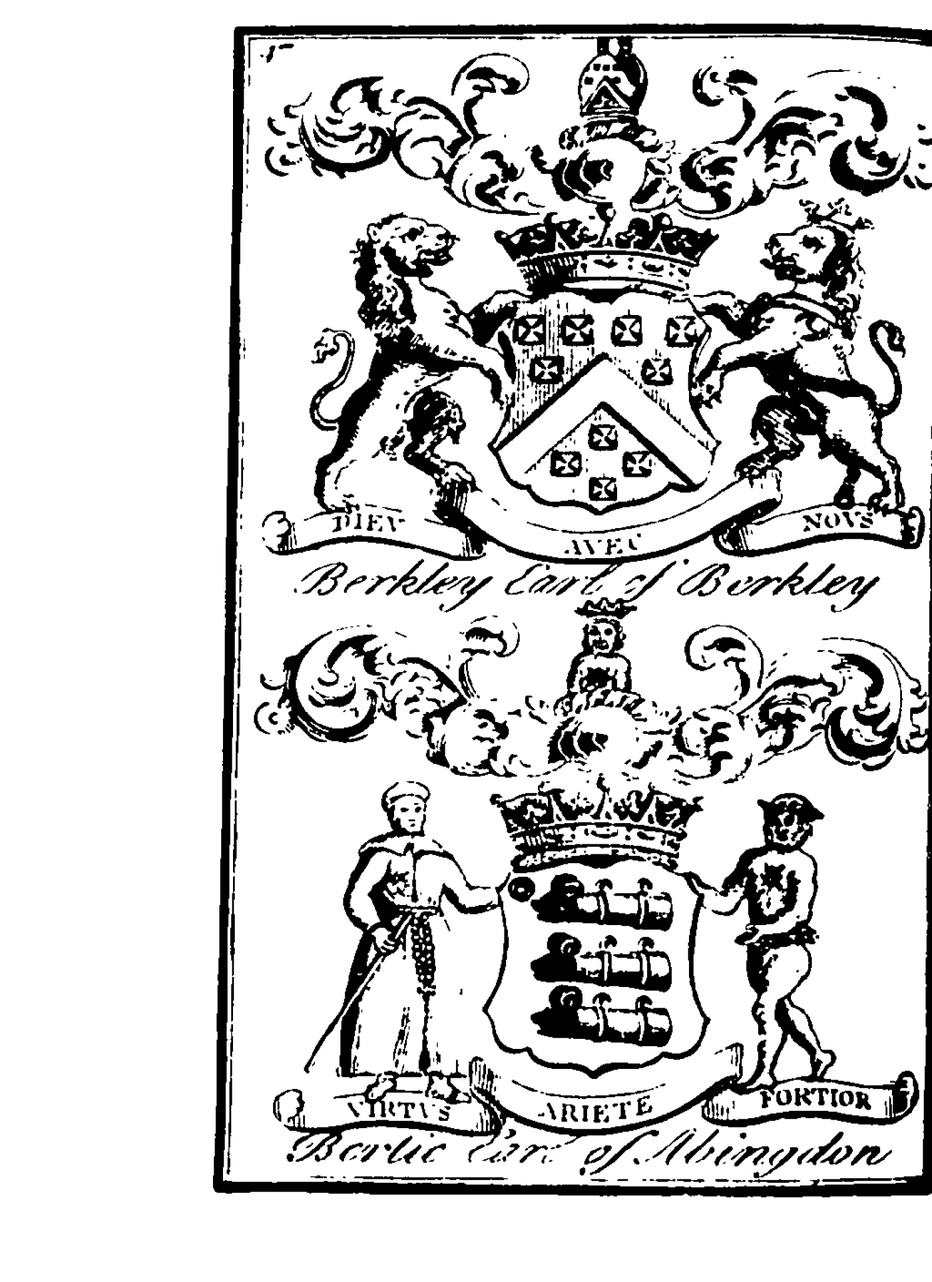coat_of_arms: (252, 46, 925, 611), (261, 608, 923, 1167)
